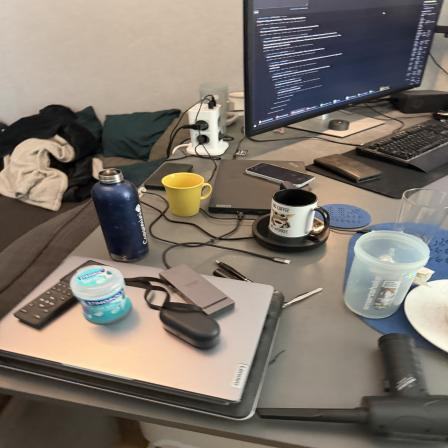blue_bottle: (97, 168, 157, 261)
phone: (244, 158, 316, 189), (319, 153, 386, 185)
yellow_cup: (164, 174, 212, 217)
